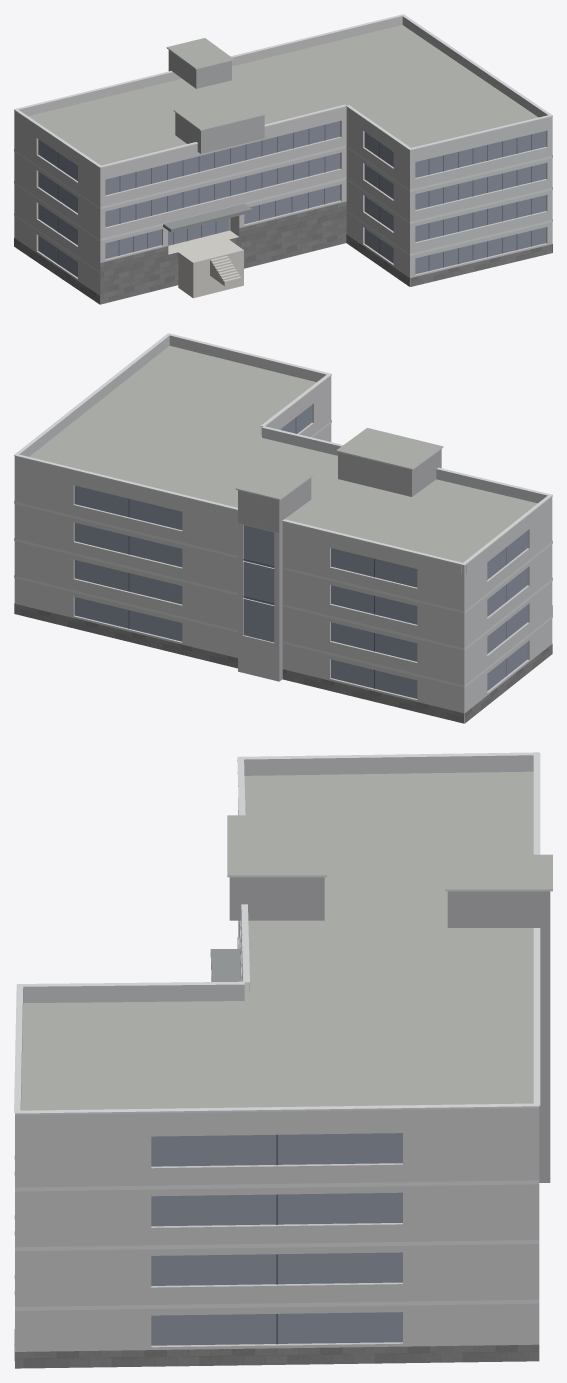
3 renders of one model, top to bottom at view 1: azimuth 30°, elevation 25°; view 2: azimuth 150°, elevation 25°; view 3: azimuth 270°, elevation 25°, orthographic. The views are drawn at different scales.
Visible parts, largest first — view 1: b137__roof, b137__wall, b137__glass, b137__base, b137__parapet, b137__trim, b137__entranceStair, b137__wall2, b137__frame, b137__canopy; view 2: b137__wall, b137__roof, b137__glass, b137__parapet, b137__trim, b137__wall2, b137__base; view 3: b137__roof, b137__wall, b137__glass, b137__parapet, b137__trim, b137__wall2, b137__base, b137__canopy.
Boxes of the visible parts, x1,y1,x2,y2 form: b137__roof: [28, 25, 538, 304]; b137__wall: [14, 114, 552, 304]; b137__glass: [38, 121, 546, 277]; b137__base: [14, 201, 552, 304]; b137__parapet: [14, 16, 552, 175]; b137__trim: [14, 14, 552, 273]; b137__entranceStair: [168, 230, 243, 298]; b137__wall2: [168, 50, 264, 153]; b137__frame: [58, 125, 531, 270]; b137__canopy: [163, 203, 252, 232]; b137__wall: [14, 384, 552, 723]; b137__roof: [29, 346, 537, 562]; b137__glass: [74, 405, 527, 698]; b137__parapet: [14, 335, 552, 574]; b137__trim: [14, 333, 552, 687]; b137__wall2: [238, 449, 441, 681]; b137__base: [14, 603, 552, 723]; b137__roof: [20, 771, 552, 1368]; b137__wall: [15, 799, 539, 1351]; b137__glass: [151, 1133, 402, 1345]; b137__parapet: [15, 755, 539, 1129]; b137__trim: [14, 752, 552, 1310]; b137__wall2: [229, 877, 550, 1182]; b137__base: [14, 937, 539, 1368]; b137__canopy: [210, 949, 240, 981].
Bounding box in the file's own units: 46.7 × 18.09 × 29.46.
Materials: 11 (1 with a texture image).
